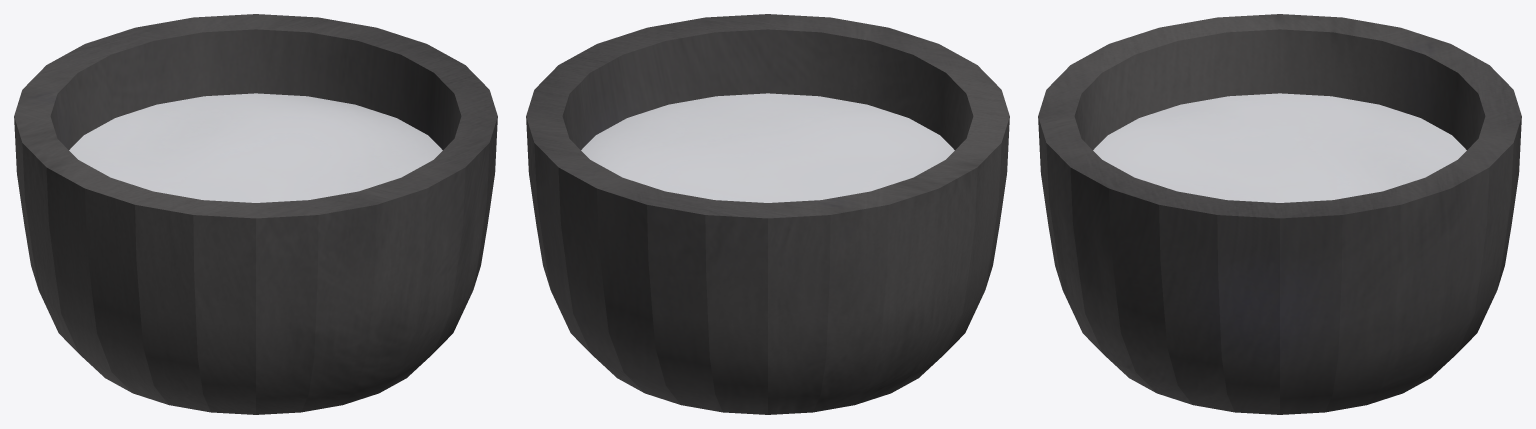
Rendered from bowl05.fbx.
3 renders of one model, left to right at view 1: azimuth 30°, elevation 25°; view 2: azimuth 150°, elevation 25°; view 3: azimuth 270°, elevation 25°, orthographic.
Parts seen in each view (by area): view 1: polySurface2.001; view 2: polySurface2.001; view 3: polySurface2.001.
Boxes of the visible parts, left/top/right/bottom form: polySurface2.001: left=14, top=14, right=497, bottom=414; polySurface2.001: left=526, top=14, right=1009, bottom=414; polySurface2.001: left=1038, top=14, right=1521, bottom=414.
Bounding box in the file's own units: 1.97 × 1.01 × 1.97.
